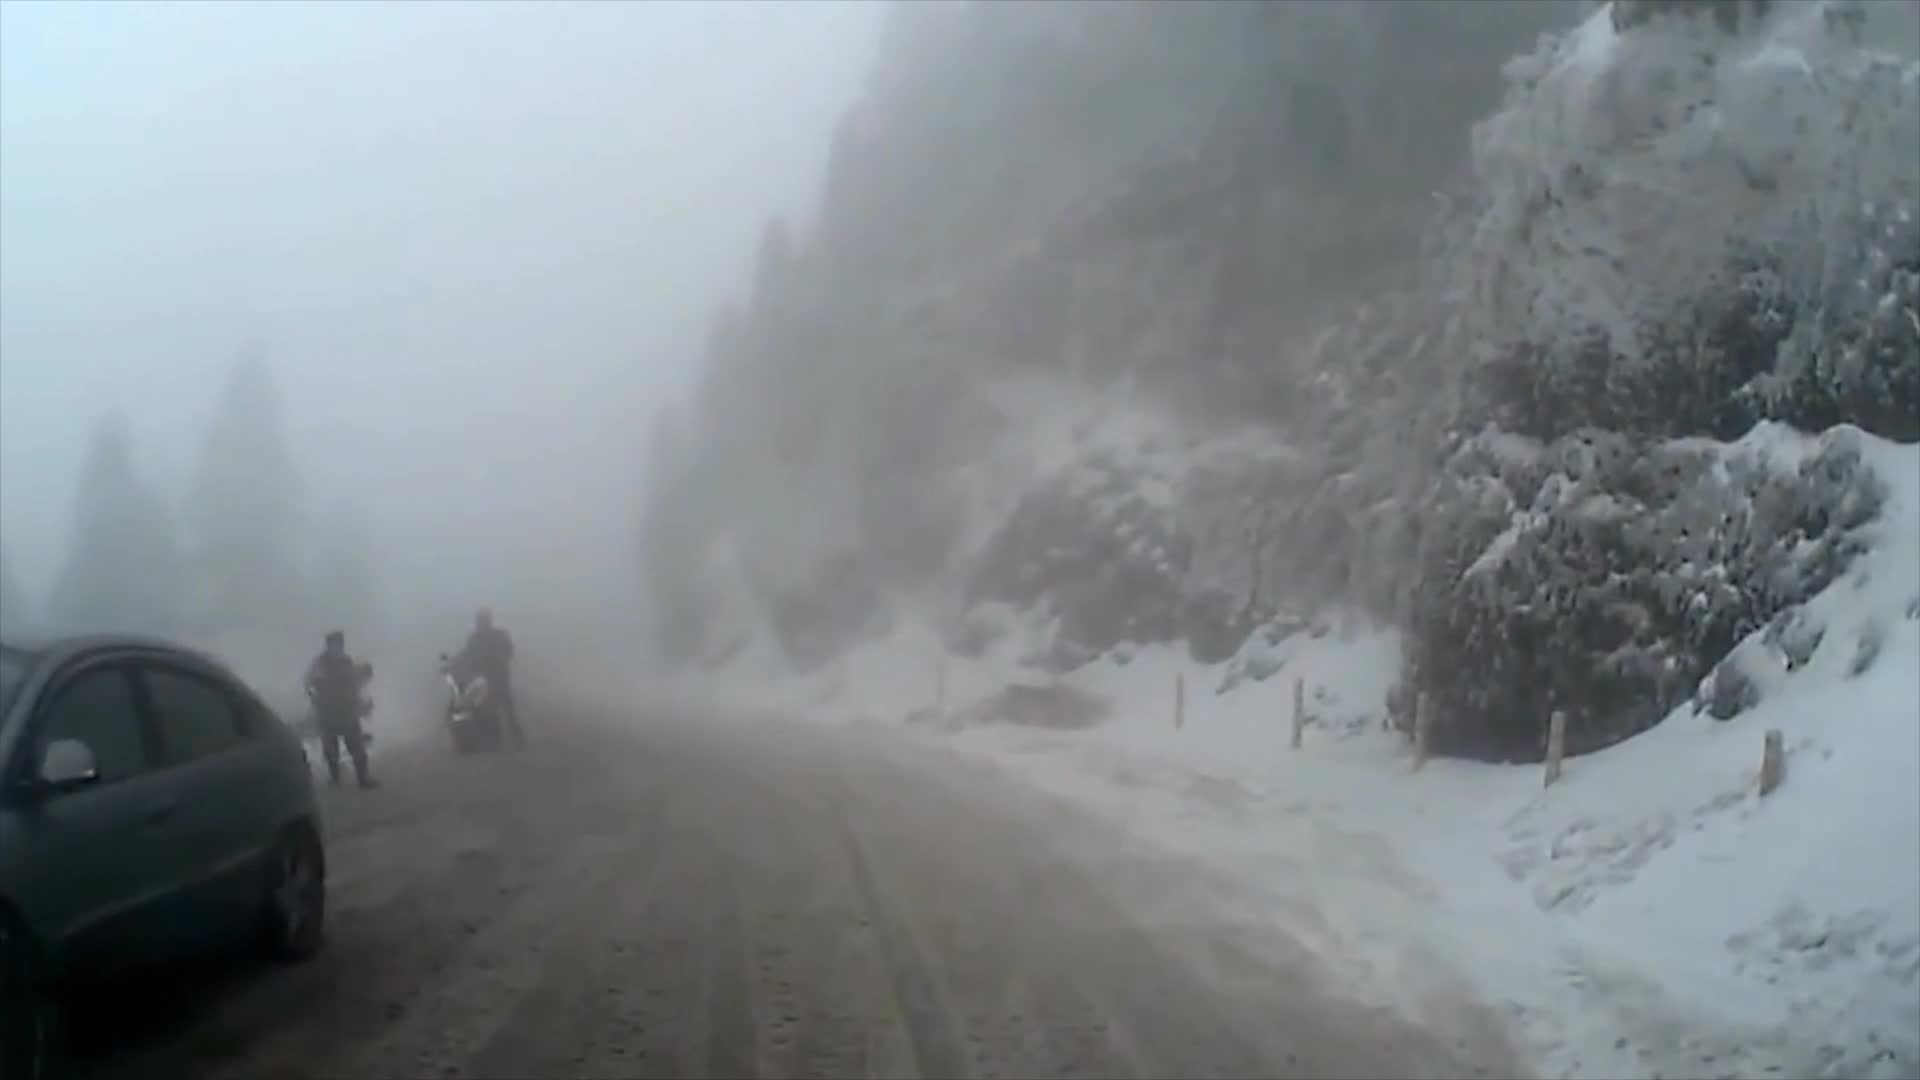pedestrian: (309, 631, 374, 795), (453, 602, 528, 743)
vehicle: (0, 623, 329, 1080)
